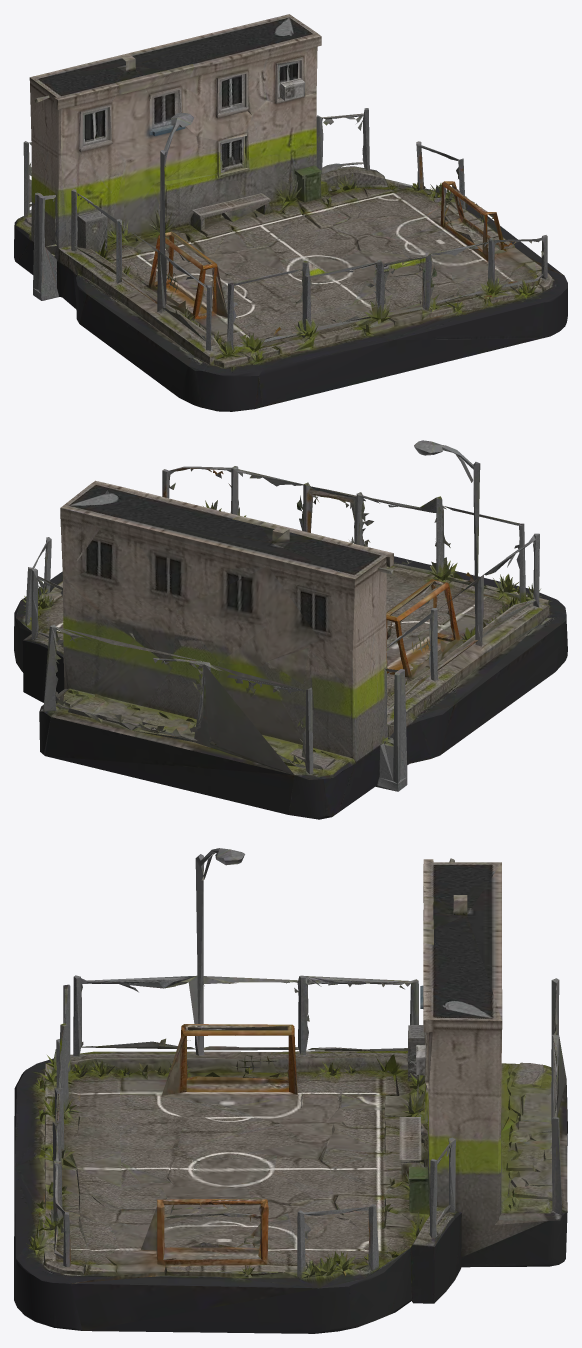
File: diorama-saha.glb
The picture shows the model from 3 angles, top to bottom: view 1: azimuth 30°, elevation 25°; view 2: azimuth 150°, elevation 25°; view 3: azimuth 270°, elevation 25°; orthographic projection. The views are drawn at different scales.
Parts seen in each view (by area): view 1: Mesh_0; view 2: Mesh_0; view 3: Mesh_0.
Boxes of the visible parts, <box> form: Mesh_0: <box>14,14,567,411</box>; Mesh_0: <box>14,440,567,819</box>; Mesh_0: <box>14,848,567,1333</box>.
Bounding box in the file's own units: 1.9 × 1.08 × 1.89.
1 material, 1 textured.
